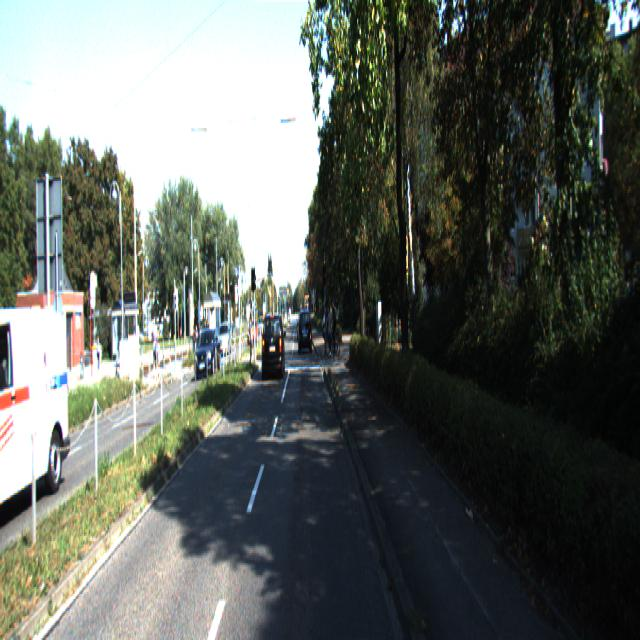Car: (0, 295, 74, 519), (262, 313, 286, 383), (194, 327, 222, 381), (298, 309, 312, 355)
